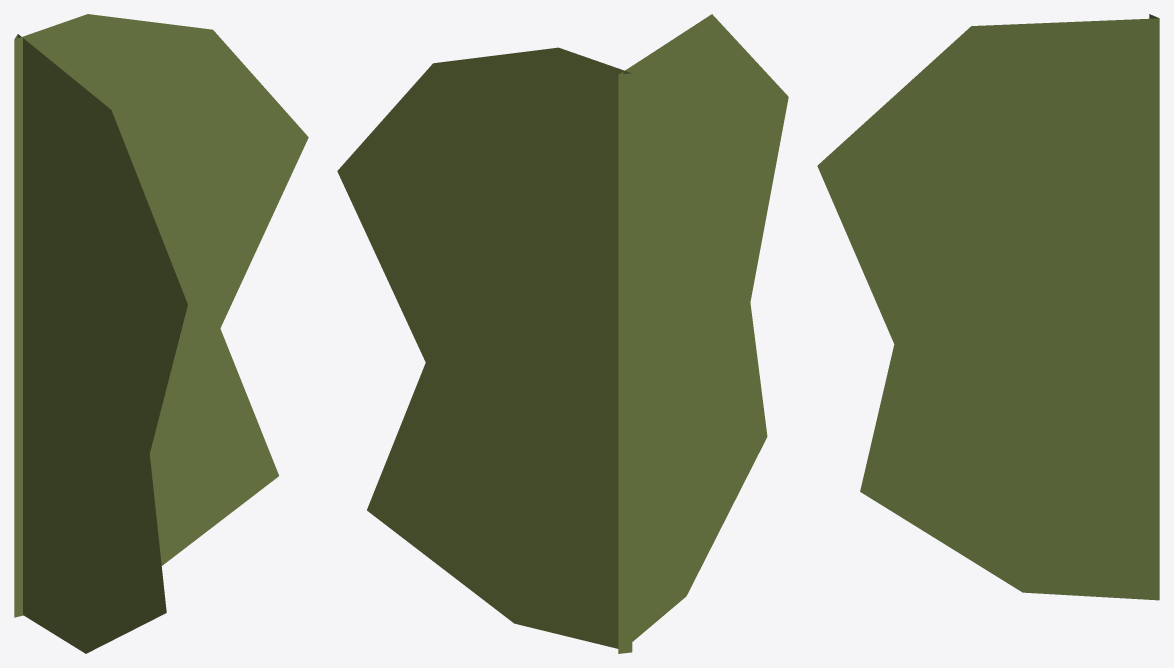
File: 012_inside_corner_moss.glb
3 views of the same model, side by side, from view 1: azimuth 30°, elevation 25°; view 2: azimuth 150°, elevation 25°; view 3: azimuth 270°, elevation 25° (orthographic).
Parts seen in each view (by area): view 1: Inner_moss_side, Inner_moss_front; view 2: Inner_moss_front, Inner_moss_side, Inner_moss_bridge; view 3: Inner_moss_side.
Boxes of the visible parts, box(x1,y1,x2,y2) form: Inner_moss_side: box(18, 34, 187, 653); Inner_moss_front: box(14, 14, 308, 617); Inner_moss_front: box(337, 47, 631, 648); Inner_moss_side: box(619, 14, 788, 641); Inner_moss_bridge: box(618, 73, 632, 653); Inner_moss_side: box(817, 18, 1159, 600).
Bounding box in the file's own units: 0.4 × 0.76 × 0.4.
